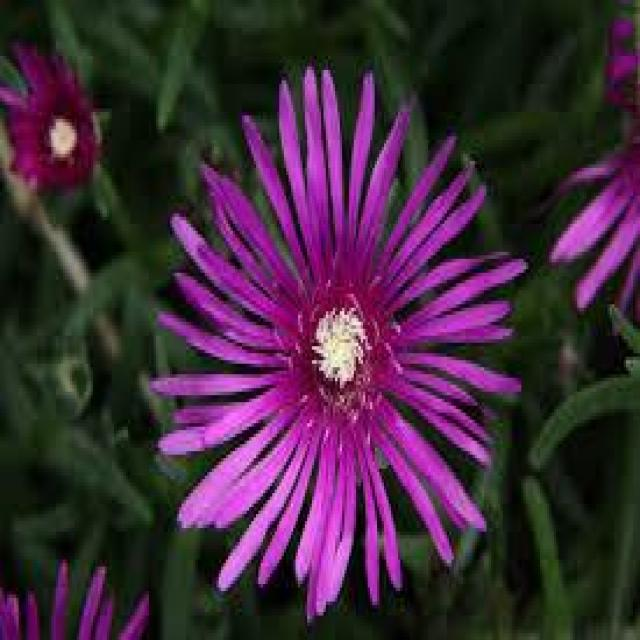organic waste: (171, 80, 530, 594), (14, 47, 121, 222)
